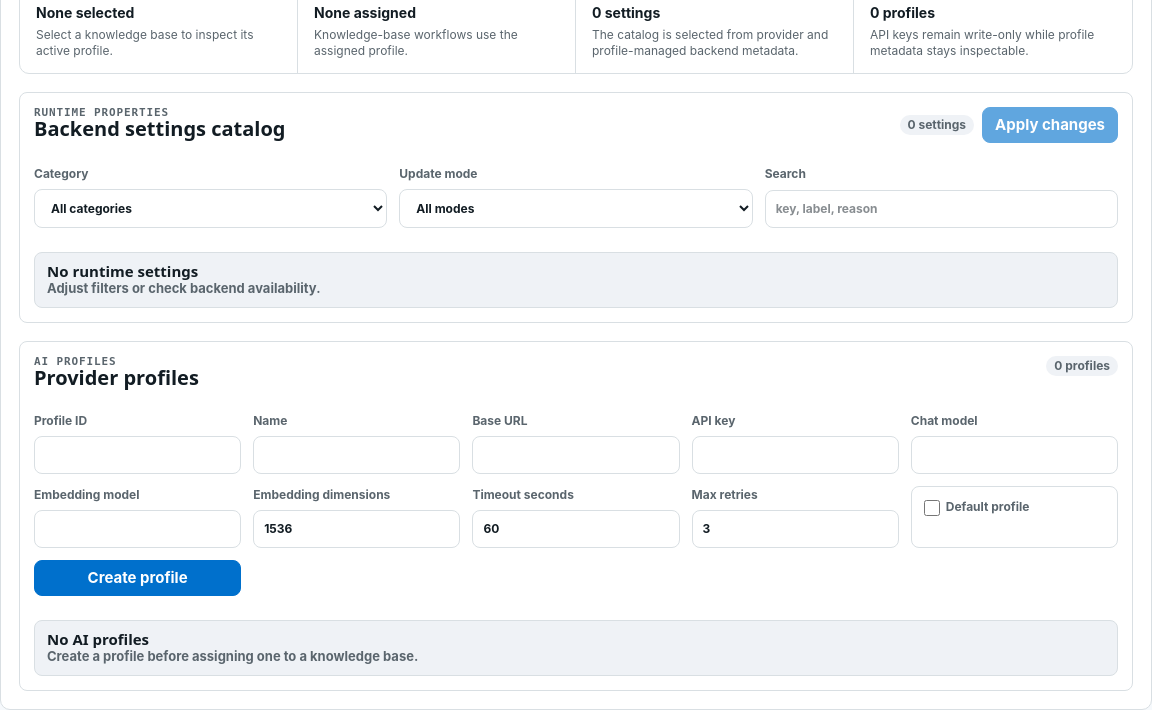
AI Providers page › validates creation and surfaces profile mutation failures
The image size is (1152, 710).
(page scrolled)
Click the button "Create profile": x=138, y=578 [34,560,241,596]
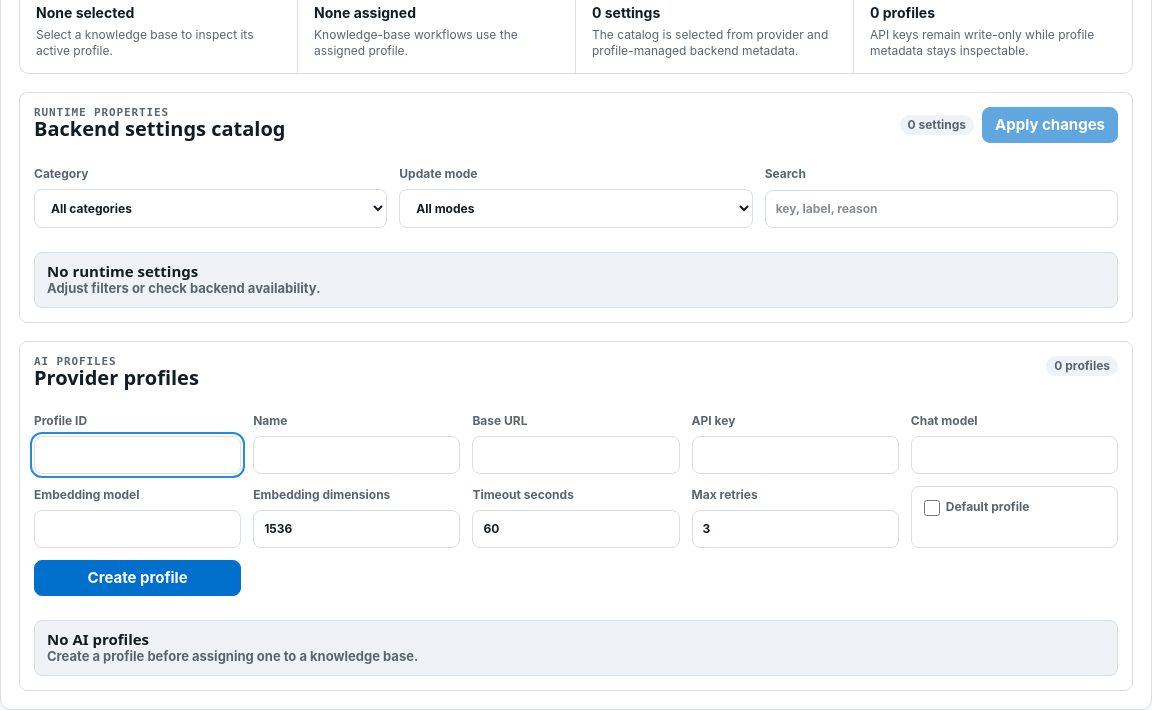
In the field labelled "Profile ID": x=138, y=455 [34,436,241,474], type "created"
In the field labelled "Name": x=357, y=455 [253,436,460,474], type "Created"
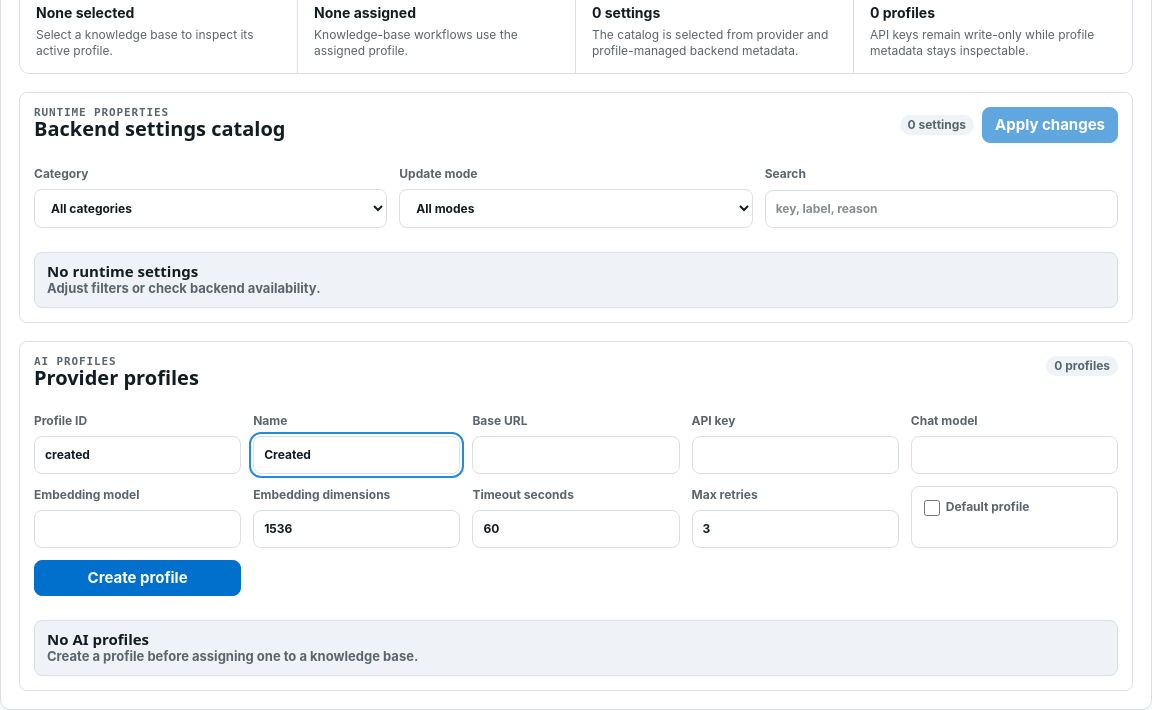
In the field labelled "Base URL": x=576, y=455 [472,436,680,474], type "https://example.test/v1"
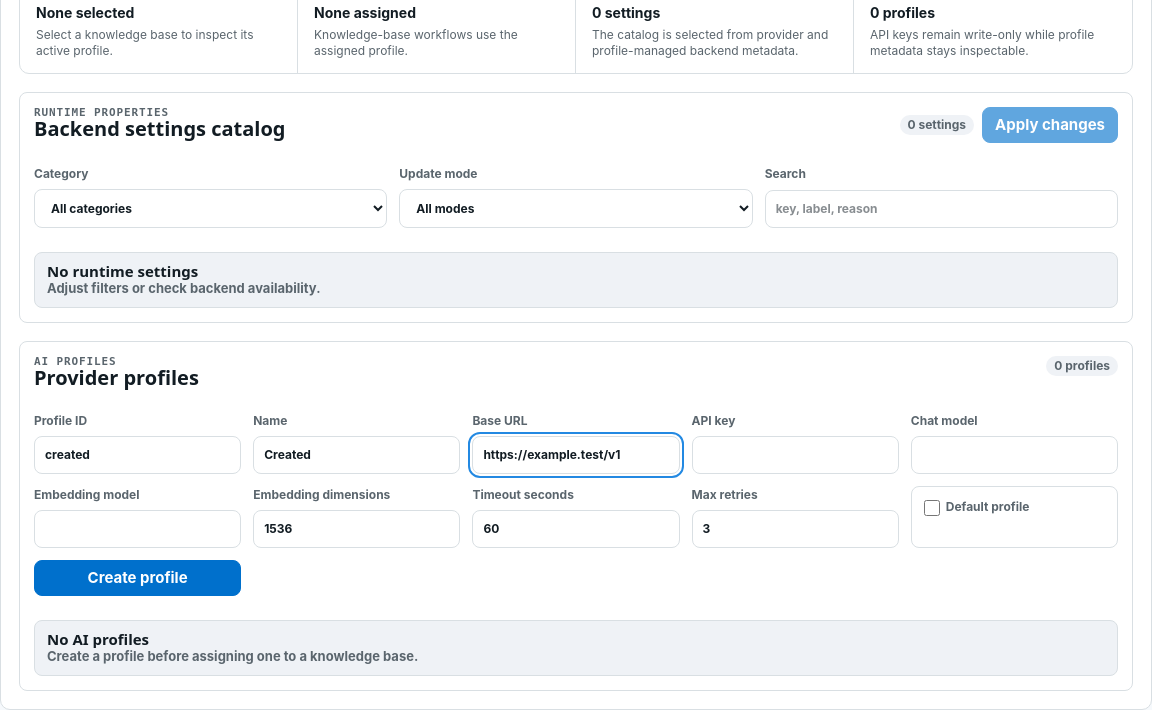
In the field labelled "Chat model": x=1014, y=455 [911,436,1118,474], type "chat"
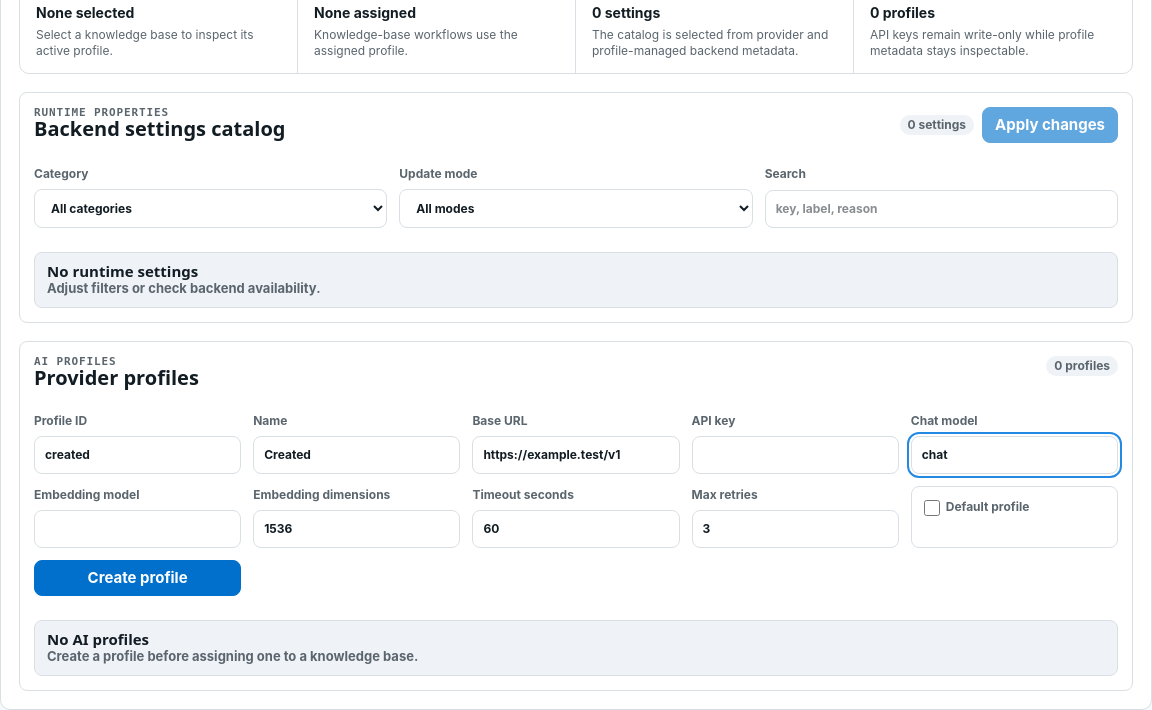
In the field labelled "Embedding model": x=138, y=529 [34,510,241,548], type "embed"
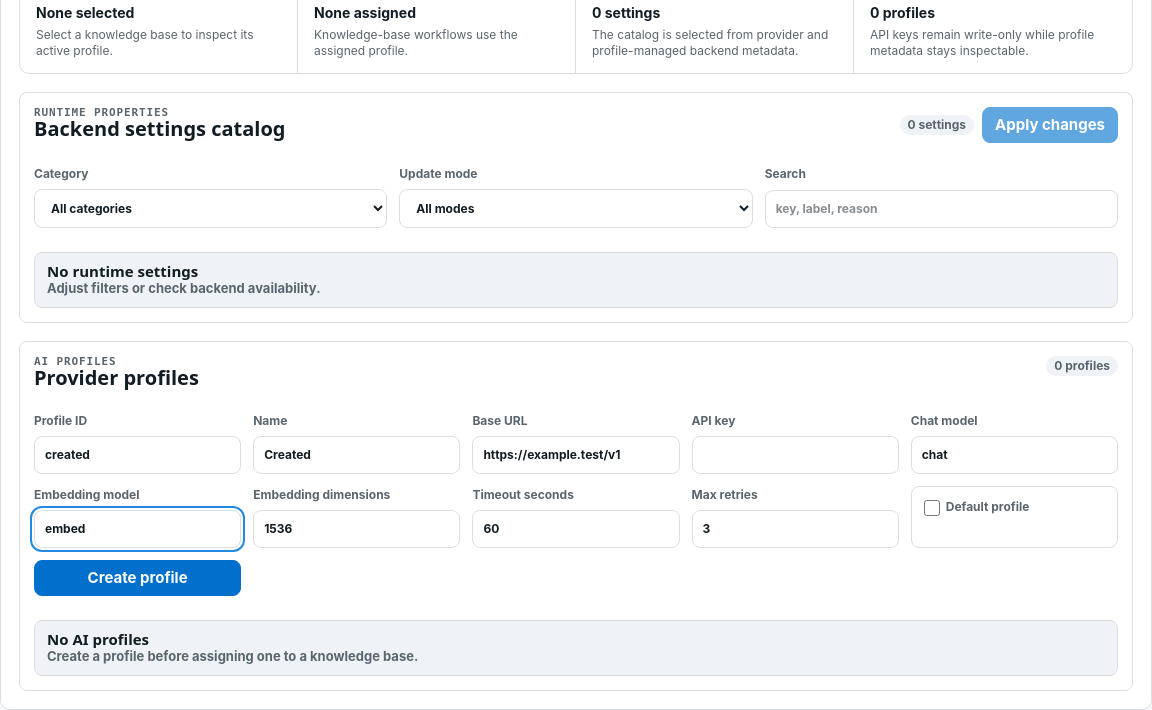
Click the button "Create profile": x=138, y=578 [34,560,241,596]
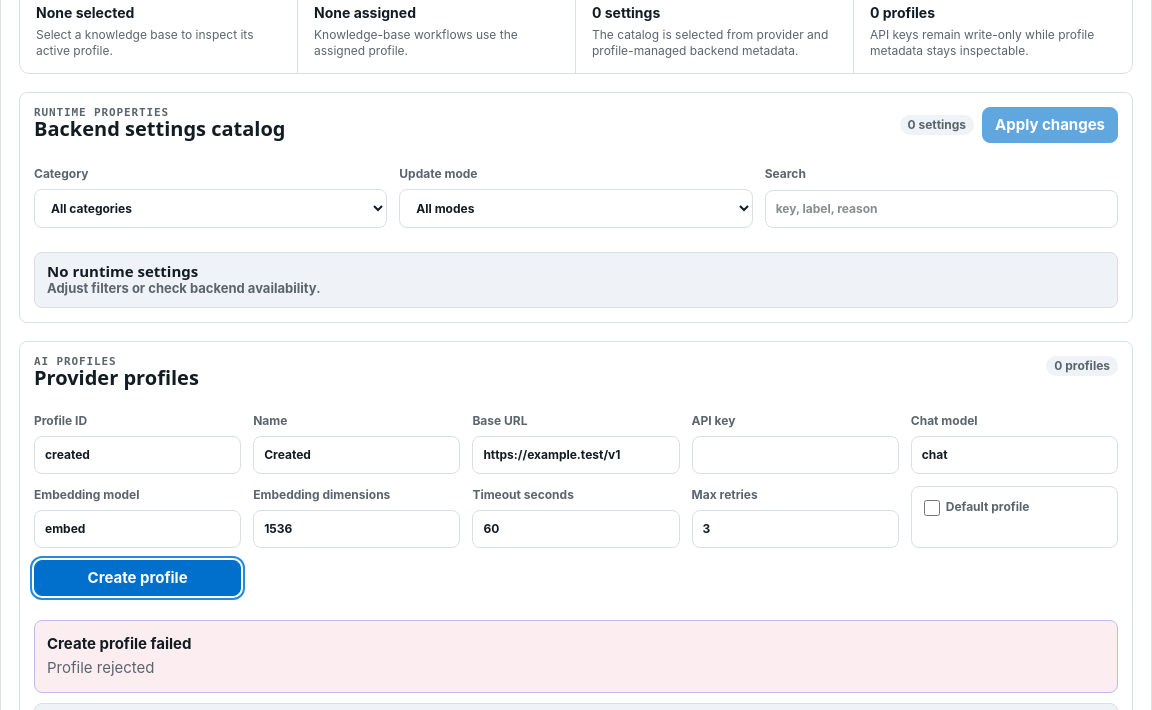
Now the text "Profile rejected" is shown, box [47,658,154,677]
